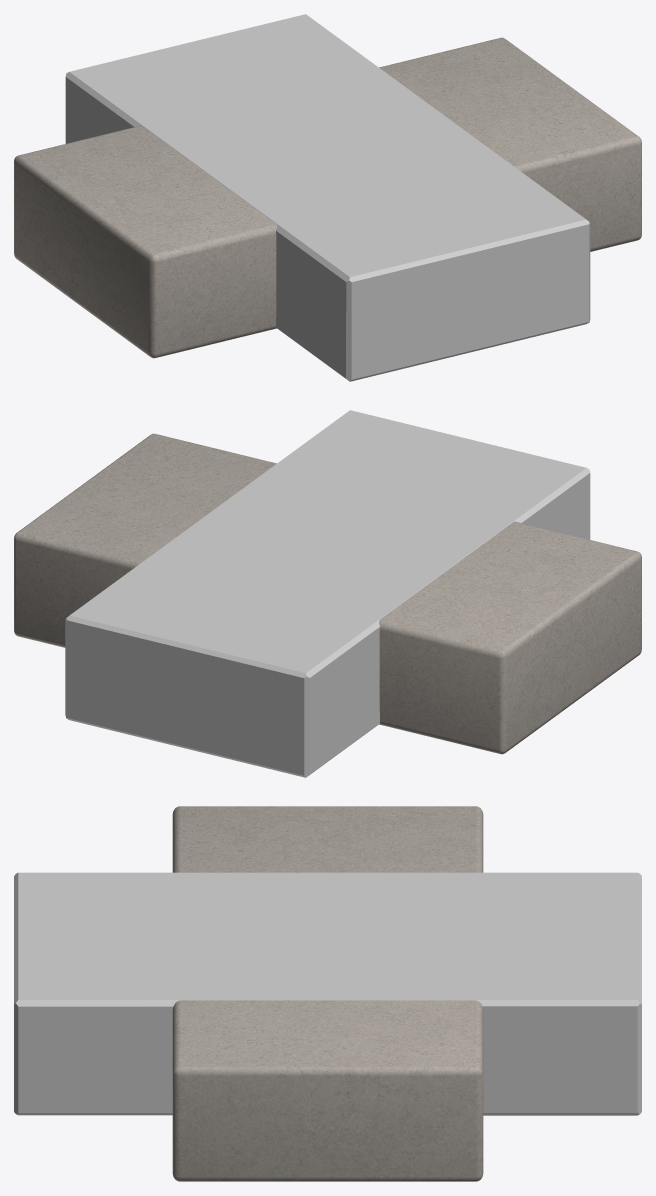
File: SM_JGJM_Stone.fbx
The picture shows the model from 3 angles, top to bottom: view 1: azimuth 30°, elevation 25°; view 2: azimuth 150°, elevation 25°; view 3: azimuth 270°, elevation 25°; orthographic projection. The views are drawn at different scales.
Visible parts, largest first — view 1: SM_JGJM_Stone_ConvexHulls, SM_JGJM_Stone; view 2: SM_JGJM_Stone_ConvexHulls, SM_JGJM_Stone; view 3: SM_JGJM_Stone_ConvexHulls, SM_JGJM_Stone.
Part boxes in pixels (box(x1,y1,x2,y2)): SM_JGJM_Stone_ConvexHulls: box(65, 14, 590, 381); SM_JGJM_Stone: box(14, 37, 641, 358); SM_JGJM_Stone_ConvexHulls: box(65, 410, 590, 777); SM_JGJM_Stone: box(14, 433, 641, 754); SM_JGJM_Stone_ConvexHulls: box(14, 872, 641, 1115); SM_JGJM_Stone: box(172, 806, 483, 1181).
Bounding box in the file's own units: 169 × 170 × 34.41.
Materials: 2 (1 with a texture image).
